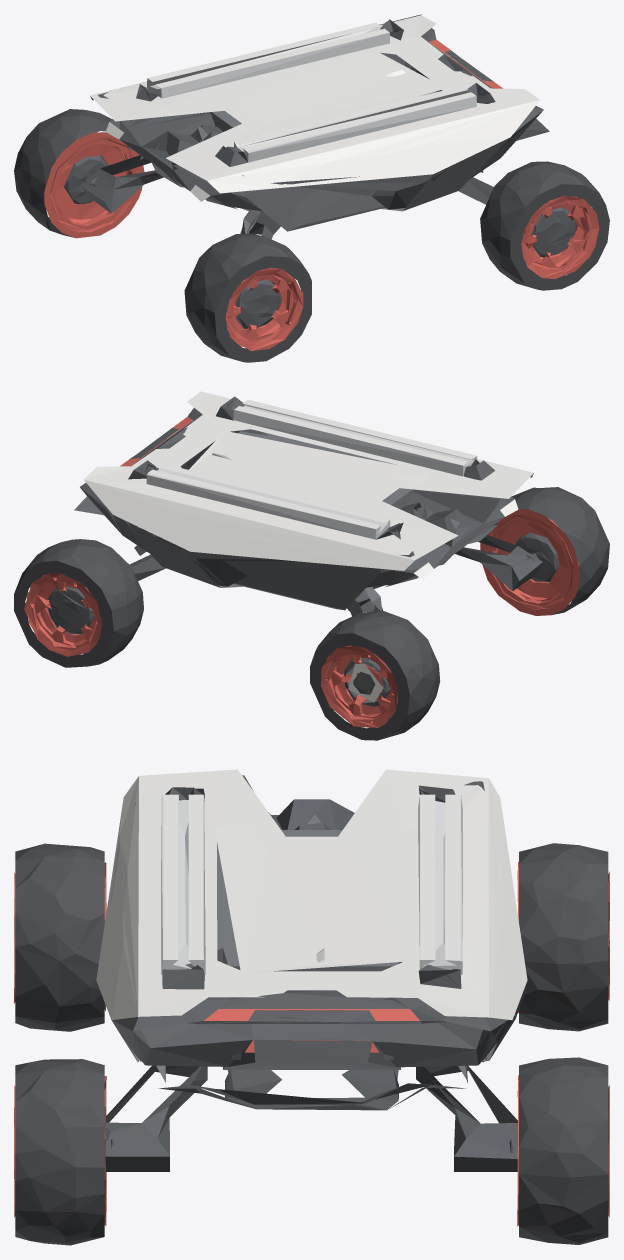
File: scout-lo.glb
3 views of the same model, one above another, from view 1: azimuth 30°, elevation 25°; view 2: azimuth 150°, elevation 25°; view 3: azimuth 270°, elevation 25° (orthographic). The views are drawn at different scales.
Visible parts, largest first — view 1: base_shell, base_black, wheel0_rubber, wheel2_rubber, base_alu, base_dark, wheel3_hub, wheel3_rubber, wheel0_hub, wheel2_hub, wheel2_black, wheel0_black (+1 smaller); view 2: base_shell, base_black, wheel1_rubber, wheel3_rubber, base_alu, wheel2_hub, wheel2_rubber, wheel3_hub, wheel1_hub, base_dark, wheel1_black, wheel2_black (+1 smaller); view 3: base_shell, base_black, wheel1_rubber, wheel0_rubber, wheel2_rubber, wheel3_rubber, base_alu, base_dark, base_red, wheel0_hub.
Part boxes in pixels (bbox=[...]): base_shell: bbox=[90, 15, 539, 201]; base_black: bbox=[81, 19, 549, 239]; wheel0_rubber: bbox=[480, 161, 609, 290]; wheel2_rubber: bbox=[184, 233, 311, 362]; base_alu: bbox=[146, 26, 476, 162]; base_dark: bbox=[90, 14, 509, 233]; wheel3_hub: bbox=[44, 132, 144, 238]; wheel3_rubber: bbox=[14, 109, 111, 237]; wheel0_hub: bbox=[521, 195, 599, 279]; wheel2_hub: bbox=[225, 267, 303, 351]; wheel2_black: bbox=[235, 279, 280, 328]; wheel0_black: bbox=[531, 207, 576, 257]; base_shell: bbox=[83, 391, 533, 702]; base_black: bbox=[74, 396, 542, 616]; wheel1_rubber: bbox=[14, 539, 143, 667]; wheel3_rubber: bbox=[310, 611, 440, 740]; base_alu: bbox=[146, 400, 477, 539]; wheel2_hub: bbox=[480, 509, 580, 615]; wheel2_rubber: bbox=[512, 487, 609, 614]; wheel3_hub: bbox=[321, 645, 397, 727]; wheel1_hub: bbox=[24, 573, 102, 656]; base_dark: bbox=[134, 430, 533, 611]; wheel1_black: bbox=[47, 586, 94, 634]; wheel2_black: bbox=[515, 533, 559, 581]; base_shell: bbox=[96, 769, 527, 1020]; base_black: bbox=[99, 775, 524, 1171]; wheel1_rubber: bbox=[519, 1057, 608, 1244]; wheel0_rubber: bbox=[15, 1059, 104, 1245]; wheel2_rubber: bbox=[15, 843, 104, 1031]; wheel3_rubber: bbox=[519, 843, 608, 1031]; base_alu: bbox=[161, 795, 462, 974]; base_dark: bbox=[111, 814, 527, 1083]; base_red: bbox=[204, 1009, 419, 1052]; wheel0_hub: bbox=[14, 1076, 106, 1225].
Bounding box in the file's own units: 0.6214 × 0.2487 × 0.5335.
